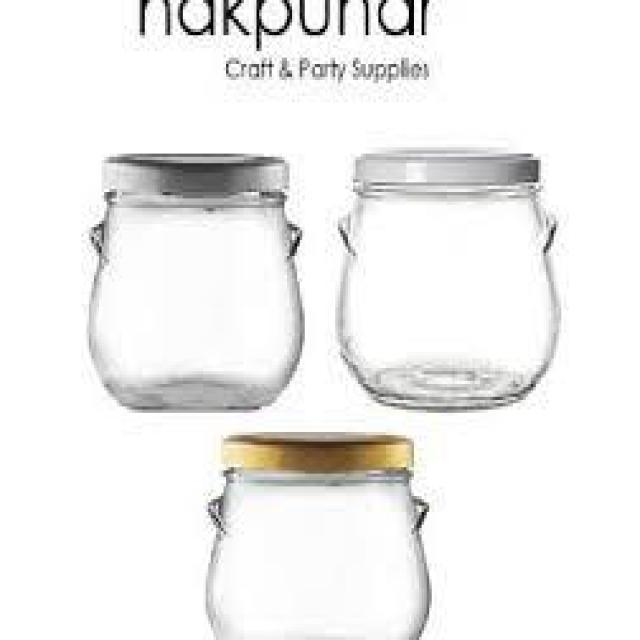Glass: (334, 146, 562, 414), (84, 152, 307, 414), (203, 429, 432, 640)
